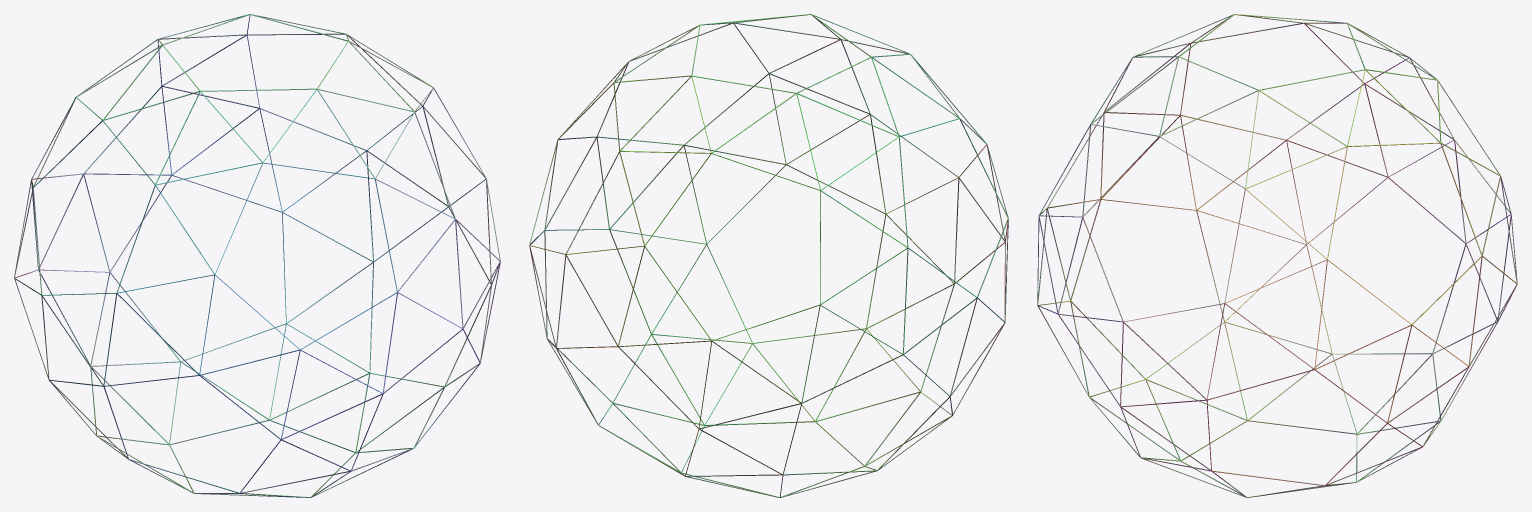
Rendered from zeometry-wireframes-wire-snub-dodecahedron_v1.glb.
The picture shows the model from 3 angles, left to right: view 1: azimuth 30°, elevation 25°; view 2: azimuth 150°, elevation 25°; view 3: azimuth 270°, elevation 25°; orthographic projection.
Visible parts, largest first — view 1: Wire Snub Dodecahedron_v1; view 2: Wire Snub Dodecahedron_v1; view 3: Wire Snub Dodecahedron_v1.
Boxes of the visible parts, x1,y1,x2,y2 form: Wire Snub Dodecahedron_v1: [14, 14, 500, 497]; Wire Snub Dodecahedron_v1: [529, 14, 1008, 497]; Wire Snub Dodecahedron_v1: [1037, 14, 1517, 497].
Size of the model in its own units: 0.5 by 0.4645 by 0.4945.
